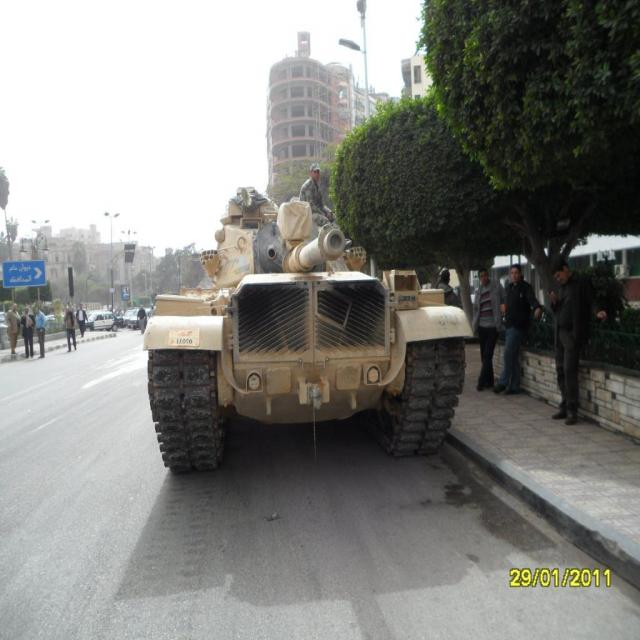tank: (141, 182, 475, 472)
